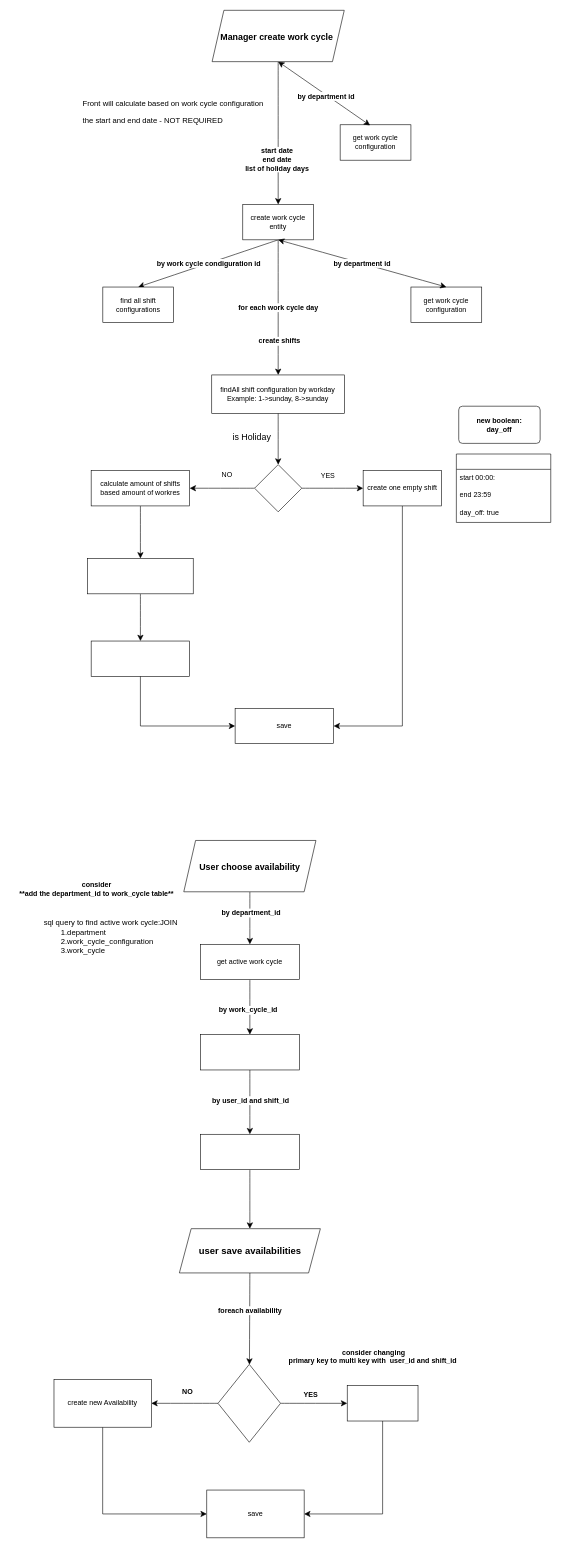
This 562x1548 diagram has some shape labels left out. The box of each missing label's shape, as (x1, y1, x2, y2) in pixels:
calculate date by configuration: (87, 558, 193, 594)
find all active availabilities: (200, 1134, 299, 1170)
get all active shifts: (200, 1034, 299, 1070)
get start and end time: (91, 640, 190, 676)
is exist: (217, 1364, 281, 1442)
shift: (456, 453, 551, 522)
update active to true: (347, 1385, 418, 1421)
